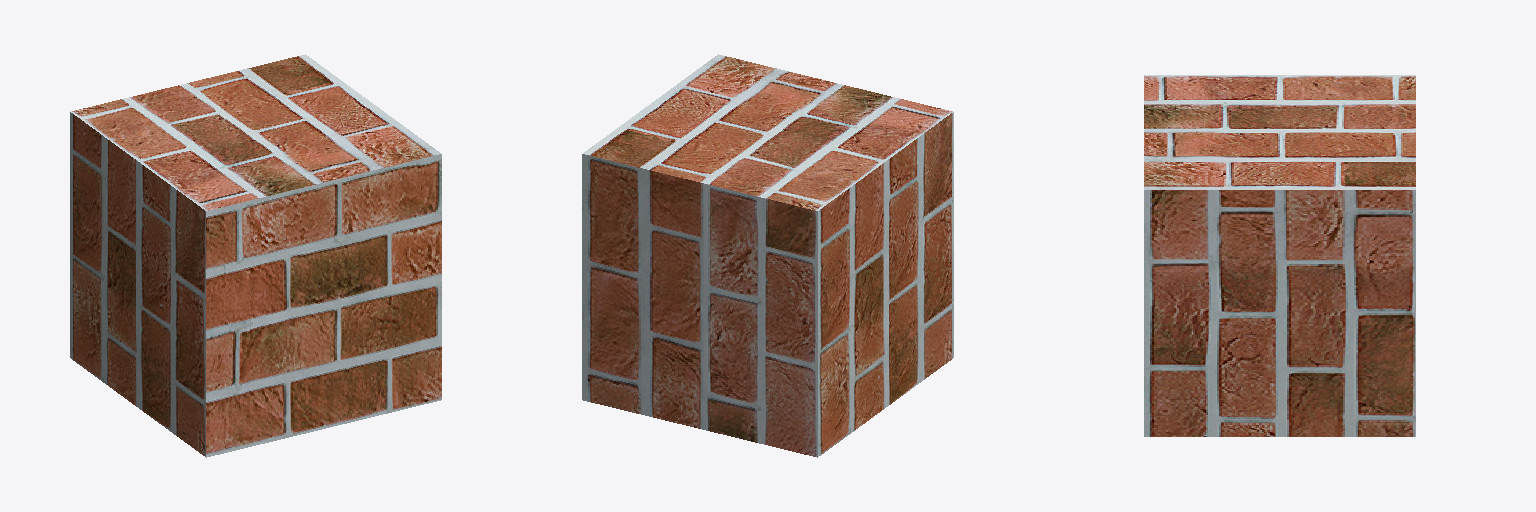
3 renders of one model, left to right at view 1: azimuth 30°, elevation 25°; view 2: azimuth 150°, elevation 25°; view 3: azimuth 270°, elevation 25°, orthographic.
Visible parts, largest first — view 1: Cube; view 2: Cube; view 3: Cube.
Boxes of the visible parts, x1,y1,x2,y2 form: Cube: [70, 54, 441, 457]; Cube: [582, 54, 953, 457]; Cube: [1144, 75, 1415, 436].
Bounding box in the file's own units: 2 × 2 × 2.
1 materials, 1 textured.